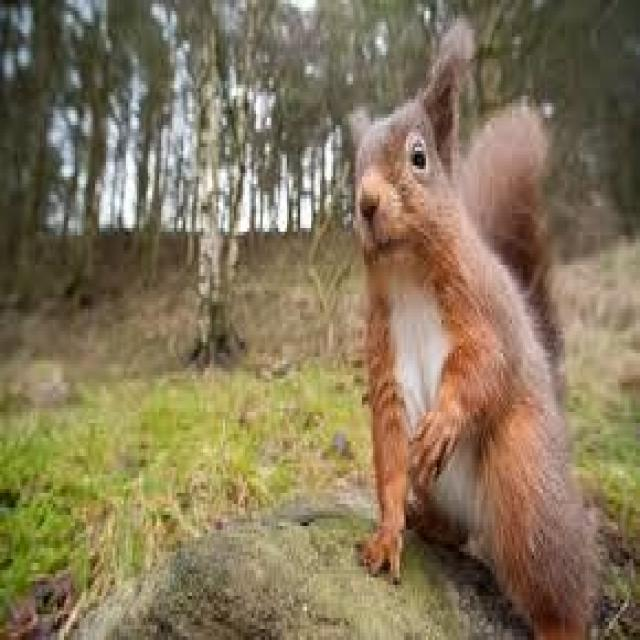license-plate: (304, 18, 604, 640)
